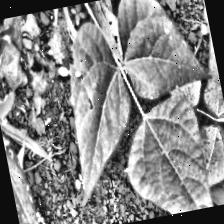ALS: (48, 20, 148, 208), (0, 114, 51, 224)
